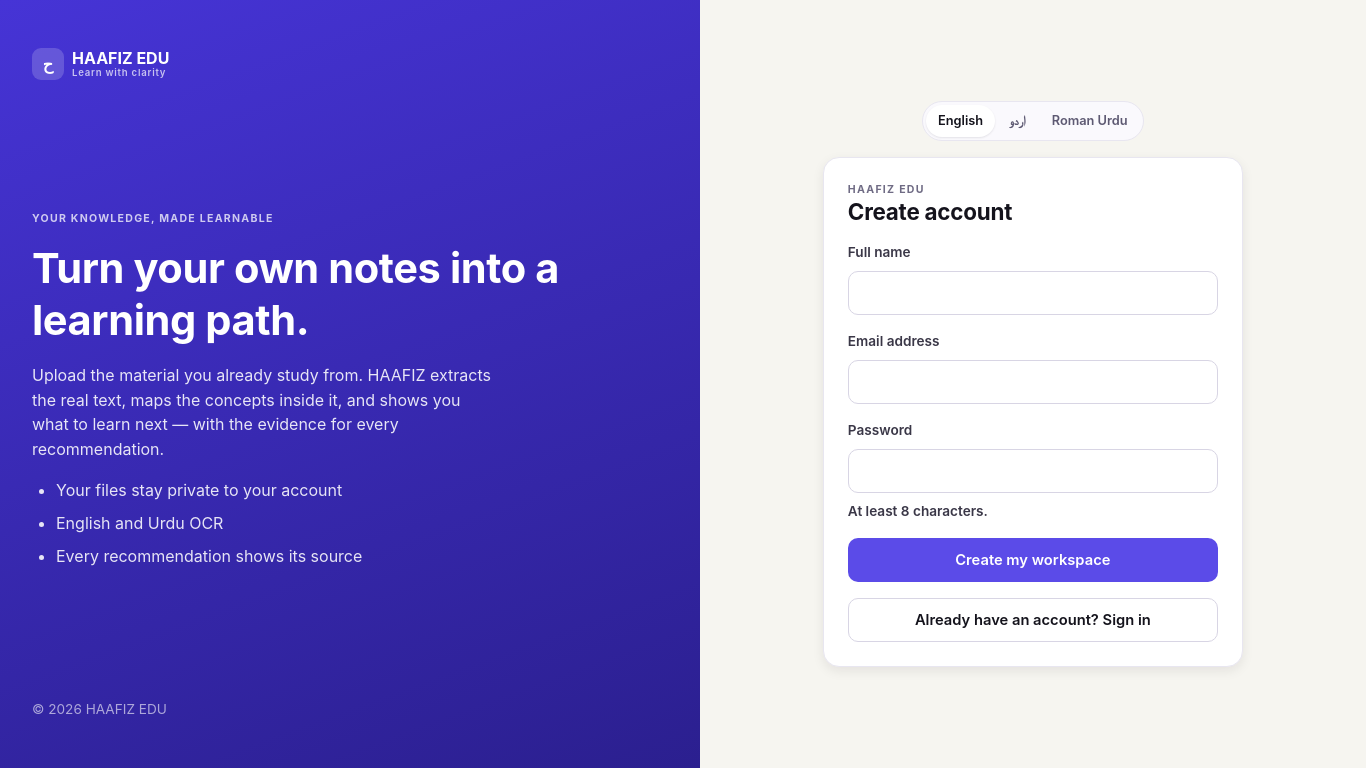
Test case: AuthPage — register › rejects a short password client-side, matching the server rule
Type "Ayesha Khan" into the field labelled "Full name".
click(1033, 293); type("Ayesha Khan")  # box x1=848 y1=271 x2=1218 y2=315
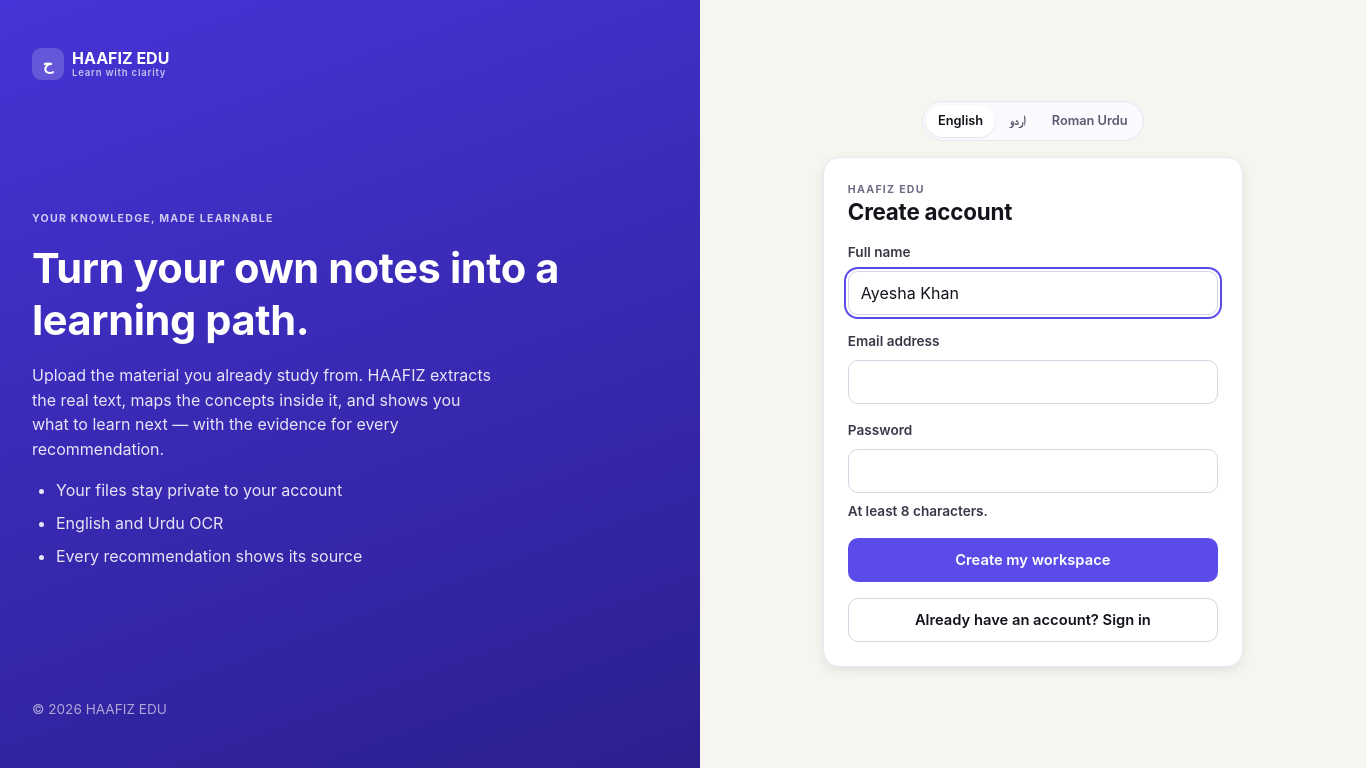
Type "ayesha@example.com" into the field labelled "Email address".
click(1033, 382); type("ayesha@example.com")  # box x1=848 y1=360 x2=1218 y2=404
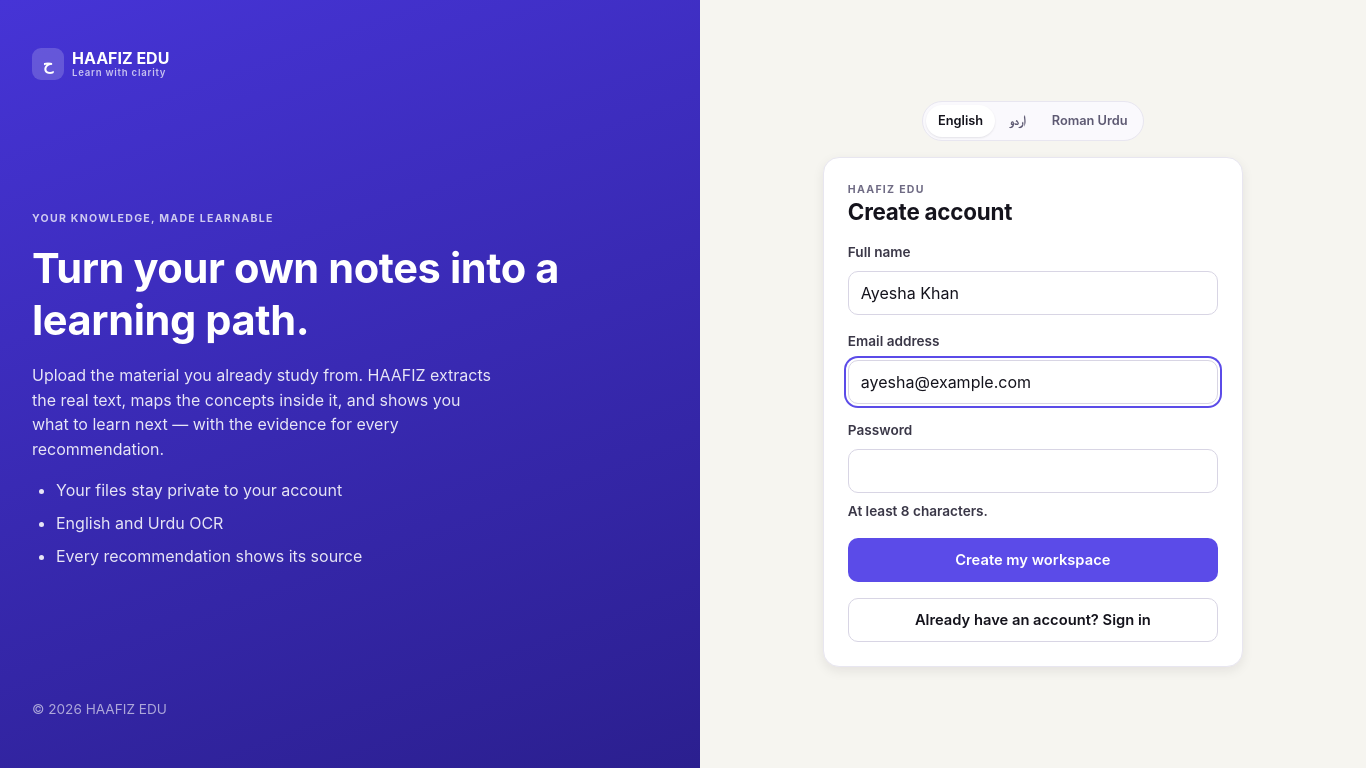
Type "short" into the password field labelled "Password At least 8 characters.".
click(1033, 471); type("short")  # box x1=848 y1=449 x2=1218 y2=493
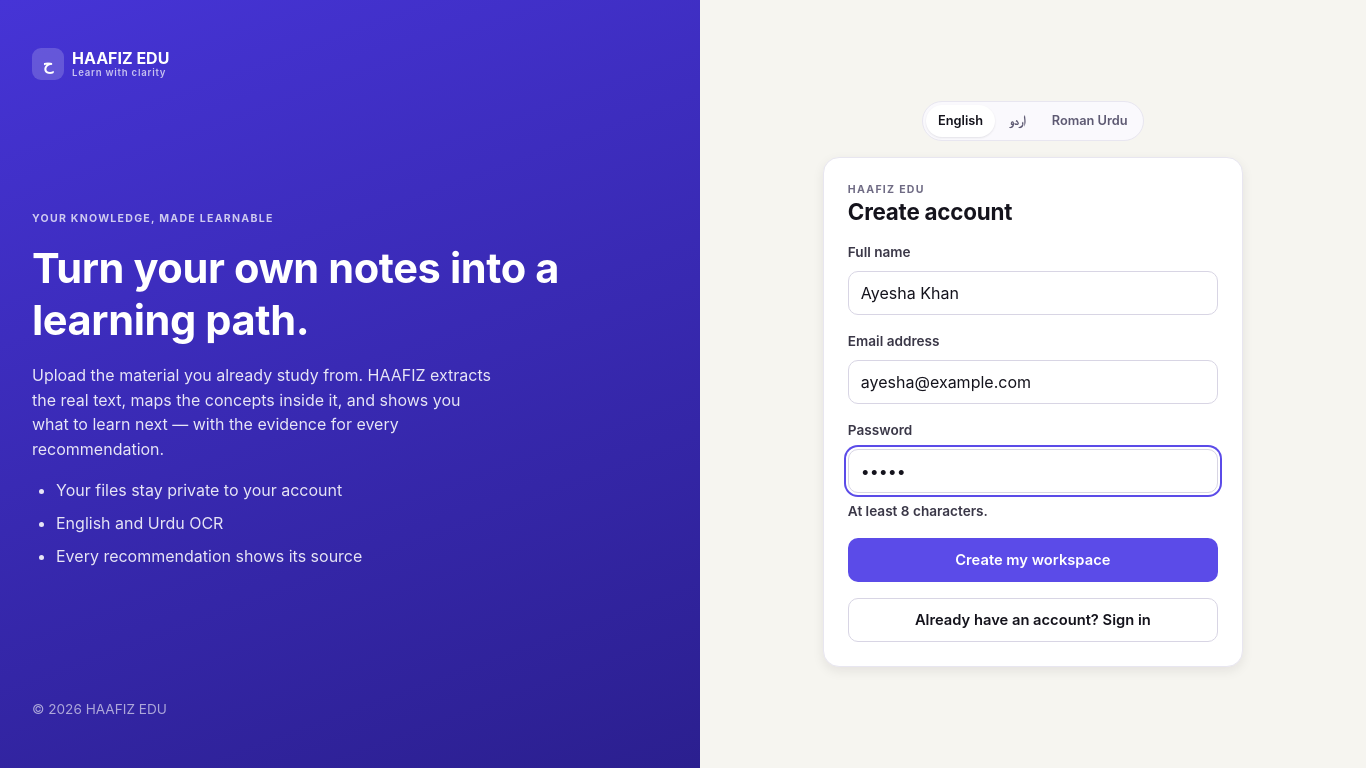
Click the button "Create my workspace".
click(1033, 560)  # box x1=848 y1=538 x2=1218 y2=582
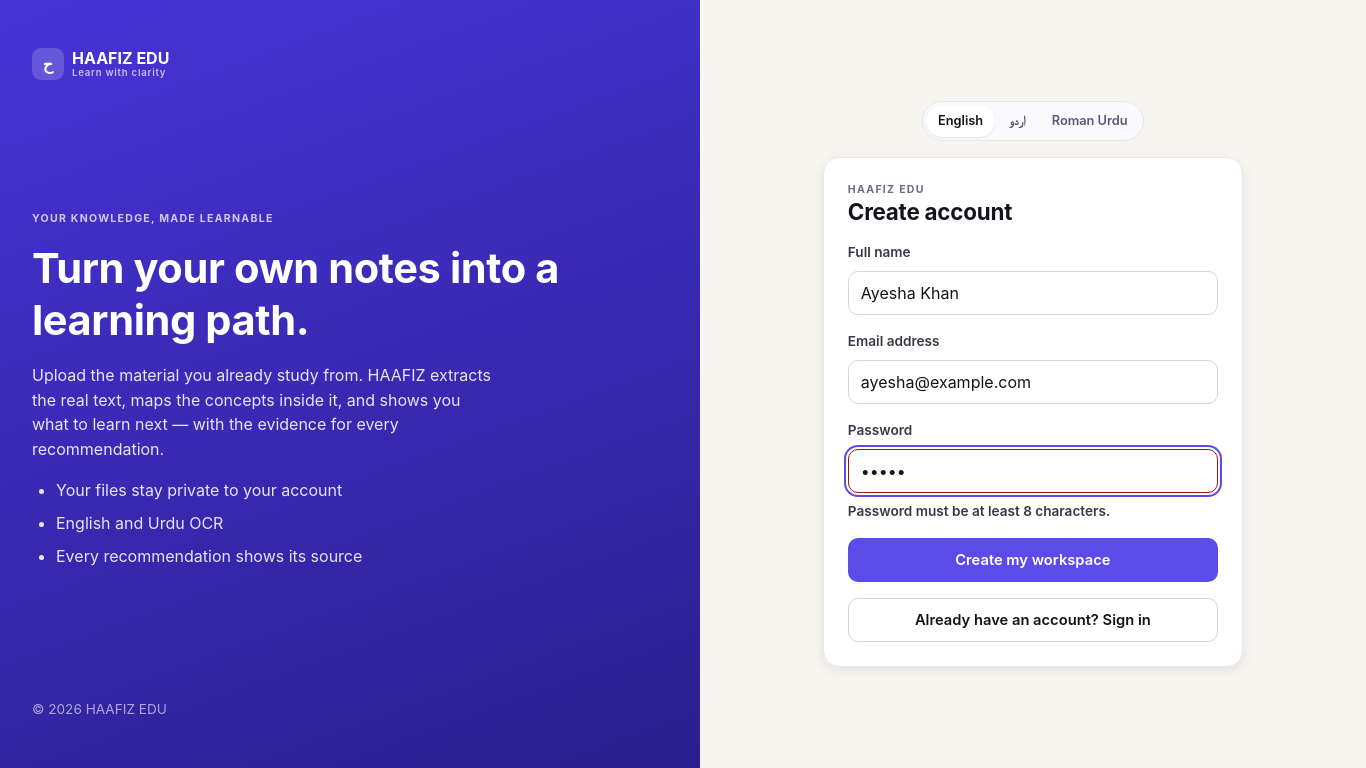
Now the text "Password must be at least 8 characters." is shown, box x1=848 y1=503 x2=1110 y2=519
